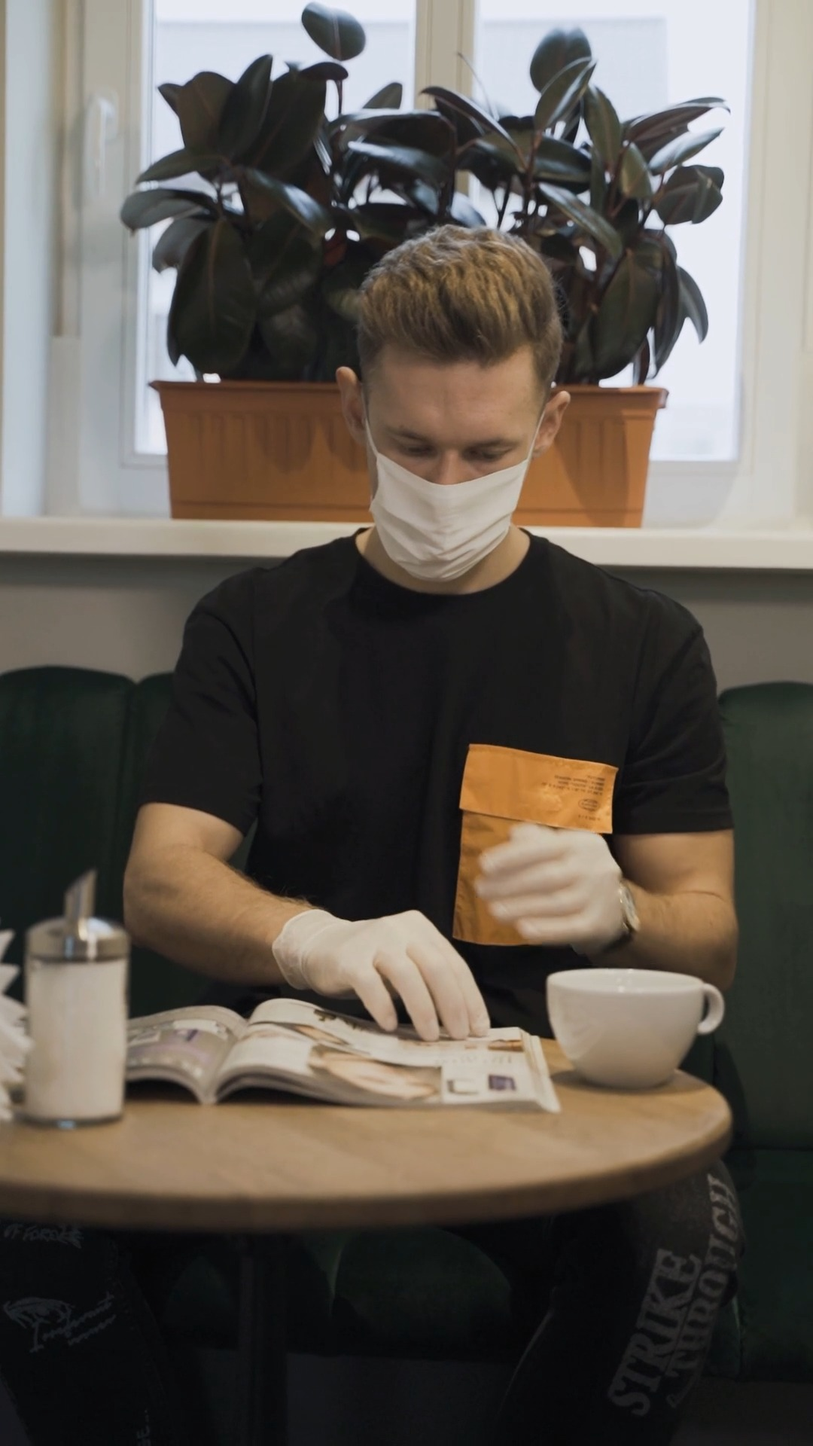gloves: (258, 886, 498, 1055), (472, 801, 661, 989)
